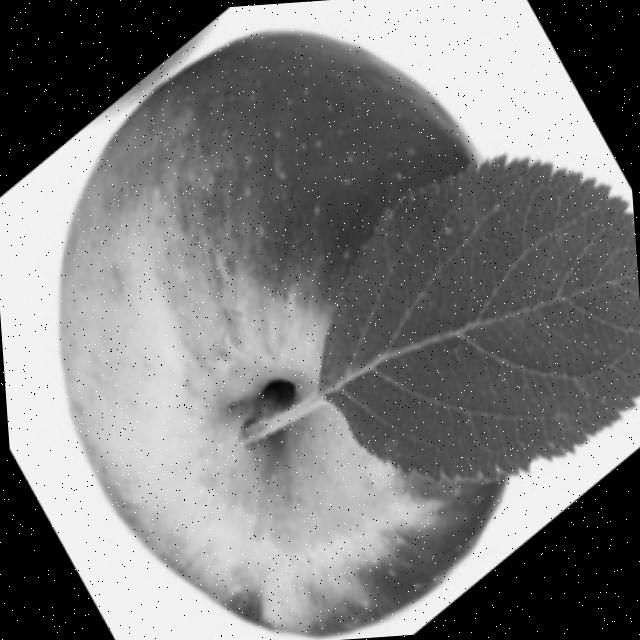Ripe: (34, 10, 529, 640)
